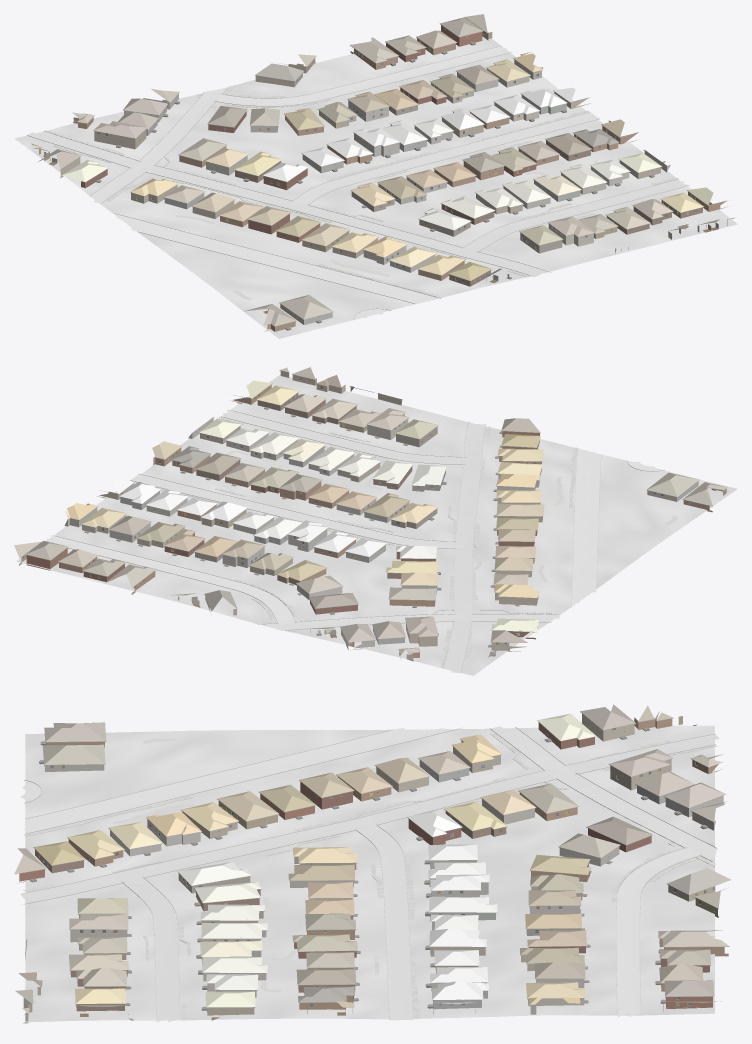
3 views of the same model, one above another, from view 1: azimuth 30°, elevation 25°; view 2: azimuth 150°, elevation 25°; view 3: azimuth 270°, elevation 25° (orthographic). The views are drawn at different scales.
Parts seen in each view (by area): view 1: ground, roof, concrete, wall, wall_stucco, detail, curb, asphalt, walk, wall_stone, glass; view 2: ground, roof, concrete, wall, wall_stucco, detail, asphalt, curb, walk, wall_stone; view 3: ground, roof, concrete, wall, detail, asphalt, wall_stucco, curb, walk, wall_stone.
Boxes of the visible parts, box(x1,y1,x2,y2) form: ground: box(14, 36, 737, 338); roof: box(31, 14, 734, 326); concrete: box(27, 47, 689, 318); wall: box(39, 25, 726, 331); wall_stucco: box(60, 59, 727, 324); detail: box(40, 17, 723, 330); curb: box(27, 45, 688, 319); asphalt: box(115, 214, 436, 303); walk: box(44, 85, 678, 299); wall_stone: box(124, 72, 670, 272); glass: box(45, 28, 696, 282); ground: box(16, 375, 737, 675); roof: box(14, 367, 730, 657); concrete: box(46, 409, 659, 672); wall: box(19, 385, 726, 658); wall_stucco: box(64, 371, 698, 651); detail: box(19, 370, 727, 658); asphalt: box(572, 449, 601, 605); curb: box(53, 410, 664, 672); walk: box(134, 417, 677, 668); wall_stone: box(109, 417, 541, 650); ground: box(25, 725, 714, 1022); roof: box(14, 704, 731, 1013); concrete: box(20, 726, 719, 1022); wall: box(19, 716, 728, 1015); detail: box(19, 711, 729, 1020); asphalt: box(24, 727, 453, 832); wall_stucco: box(23, 714, 690, 1023); curb: box(22, 727, 717, 1019); walk: box(23, 732, 716, 1020); wall_stone: box(110, 795, 724, 987).
Bounding box in the file's own units: 267 × 12.61 × 262.
